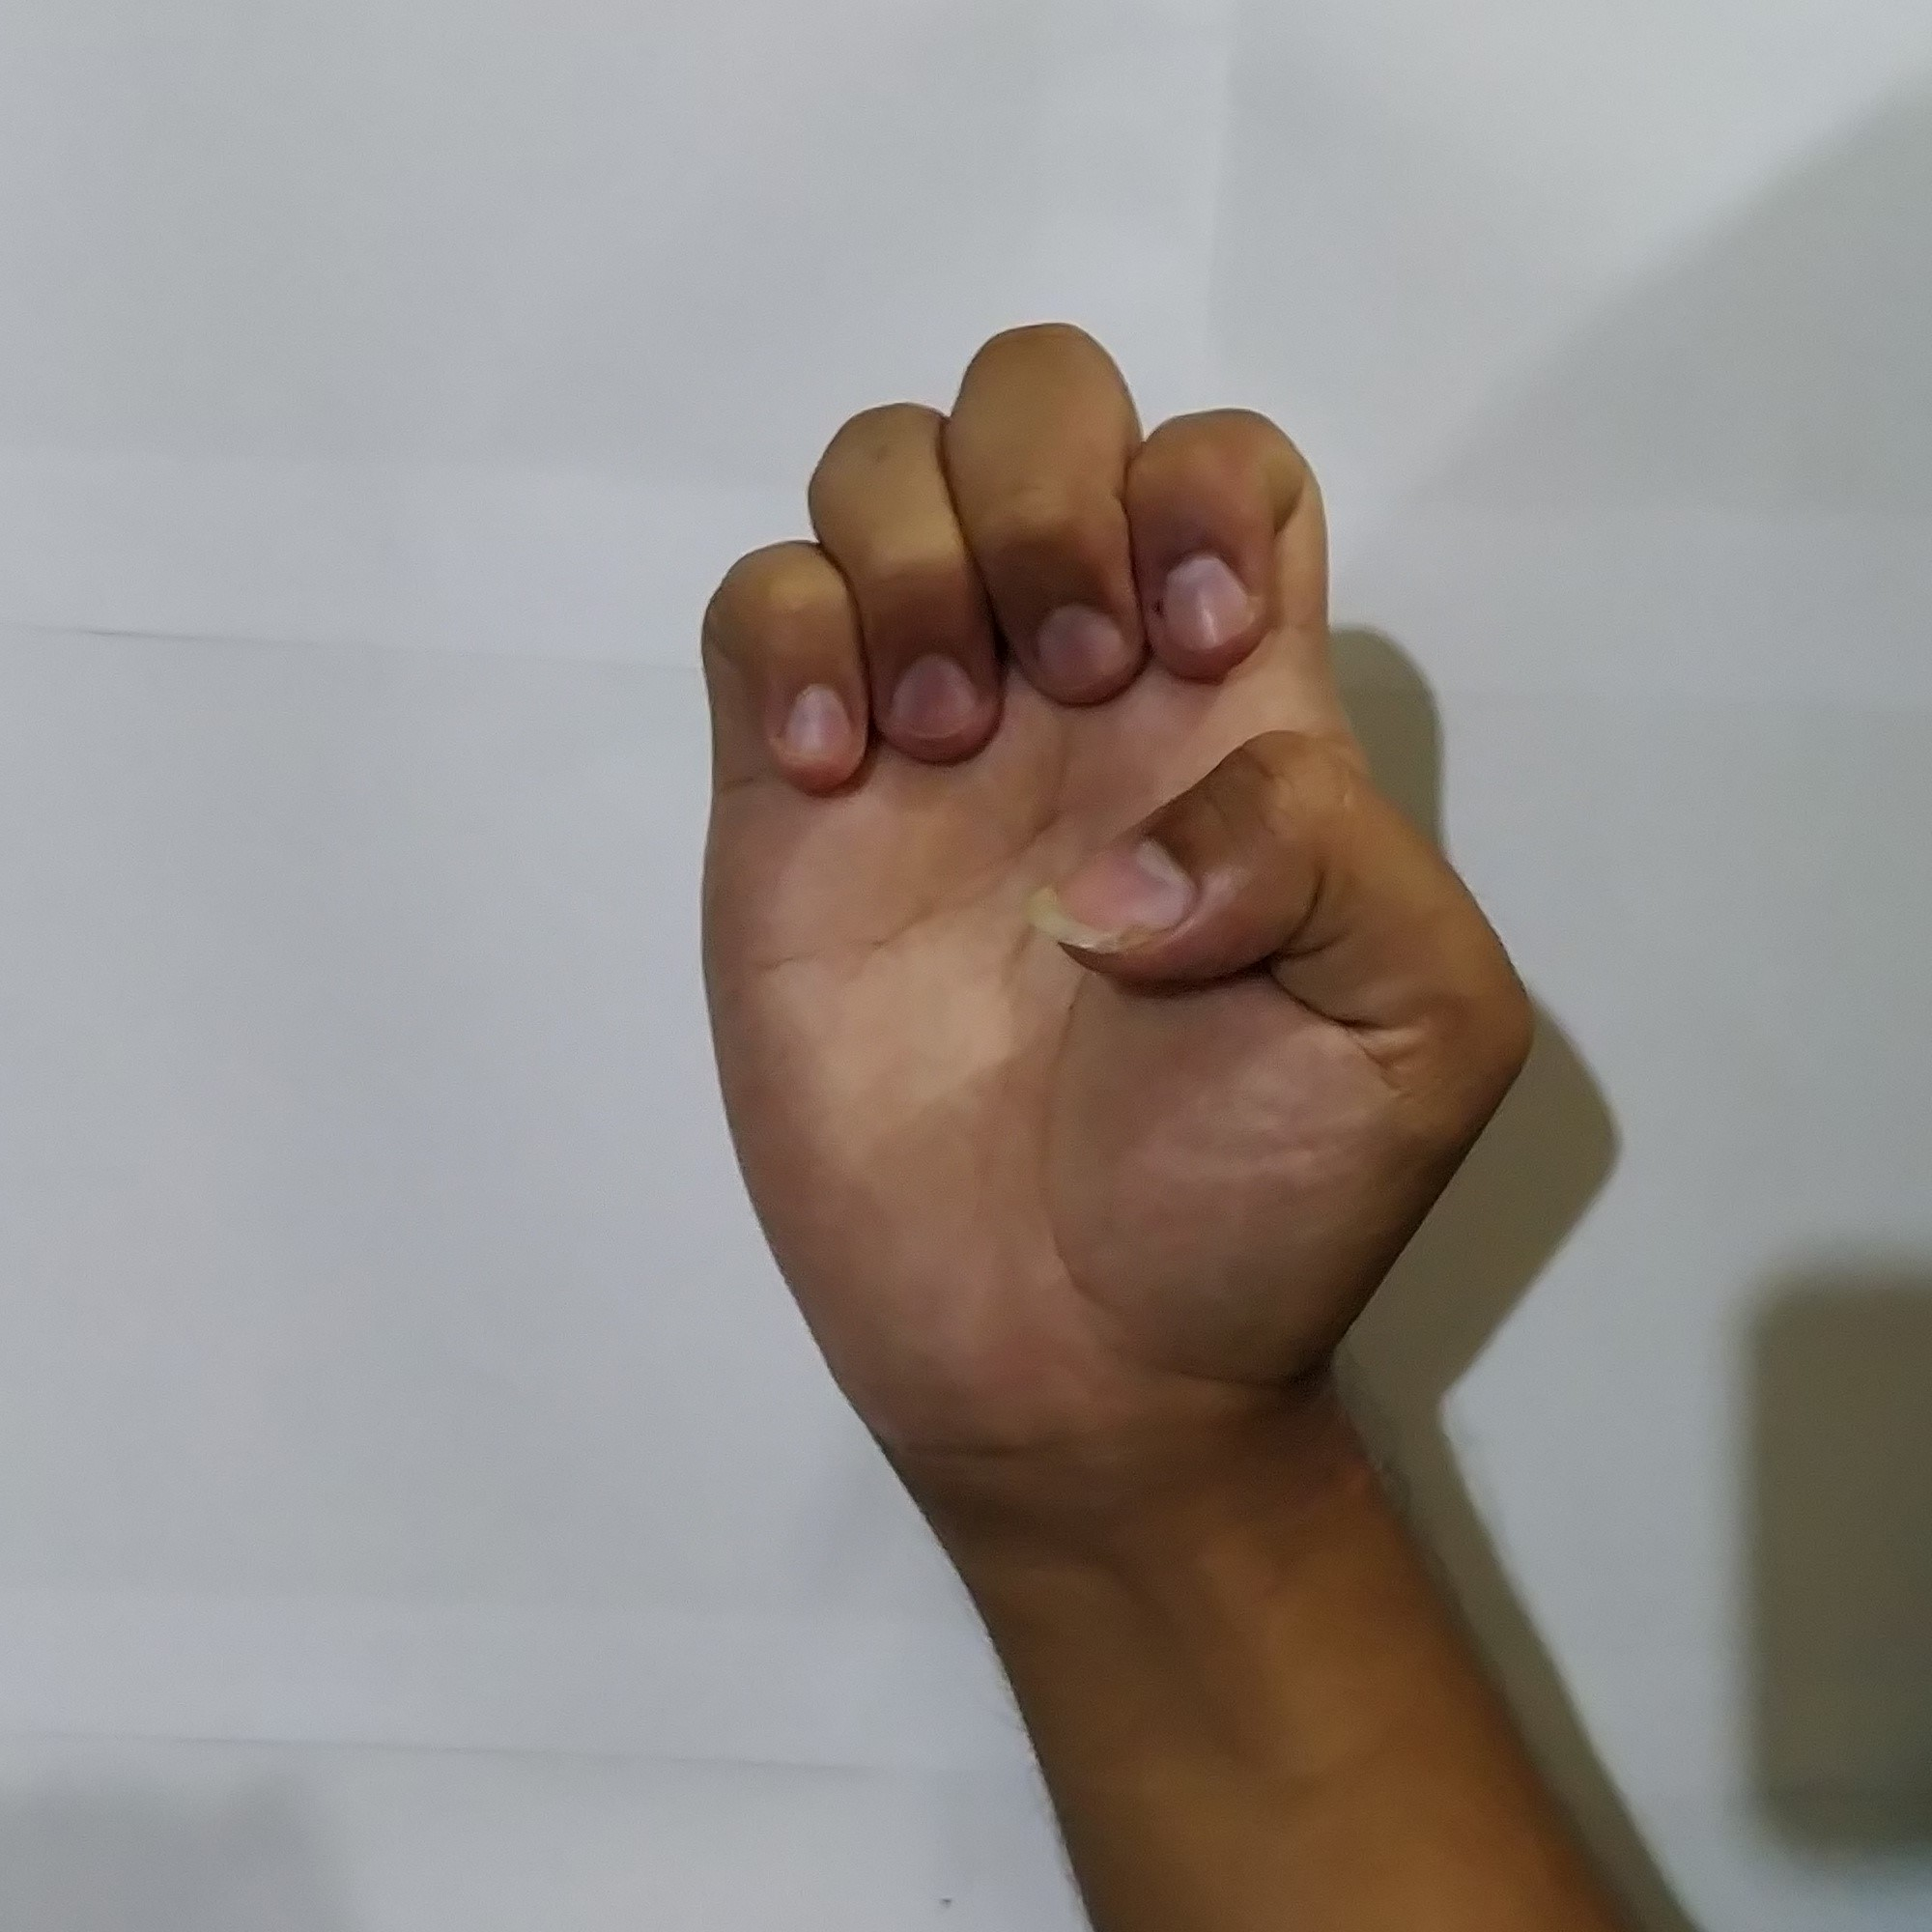E: (655, 299, 1562, 1419)
